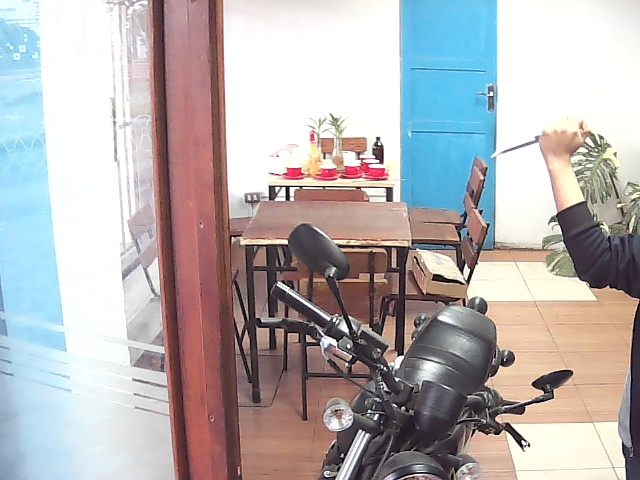cuchillo: (485, 111, 594, 164)
